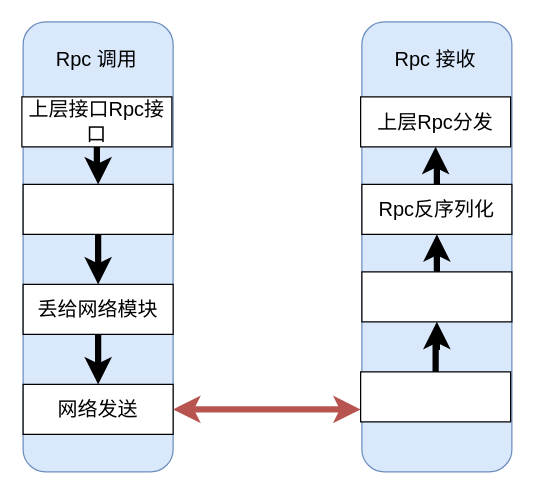
Some shapes in this 534 by 494 pixel diagram are drawn without their labels. The box of each missing label's shape, as (x1, y1, x2, y2) in pixels:
序列化: (22, 183, 173, 234)
网络接收: (359, 371, 511, 422)
网络模块解包: (361, 271, 512, 322)
